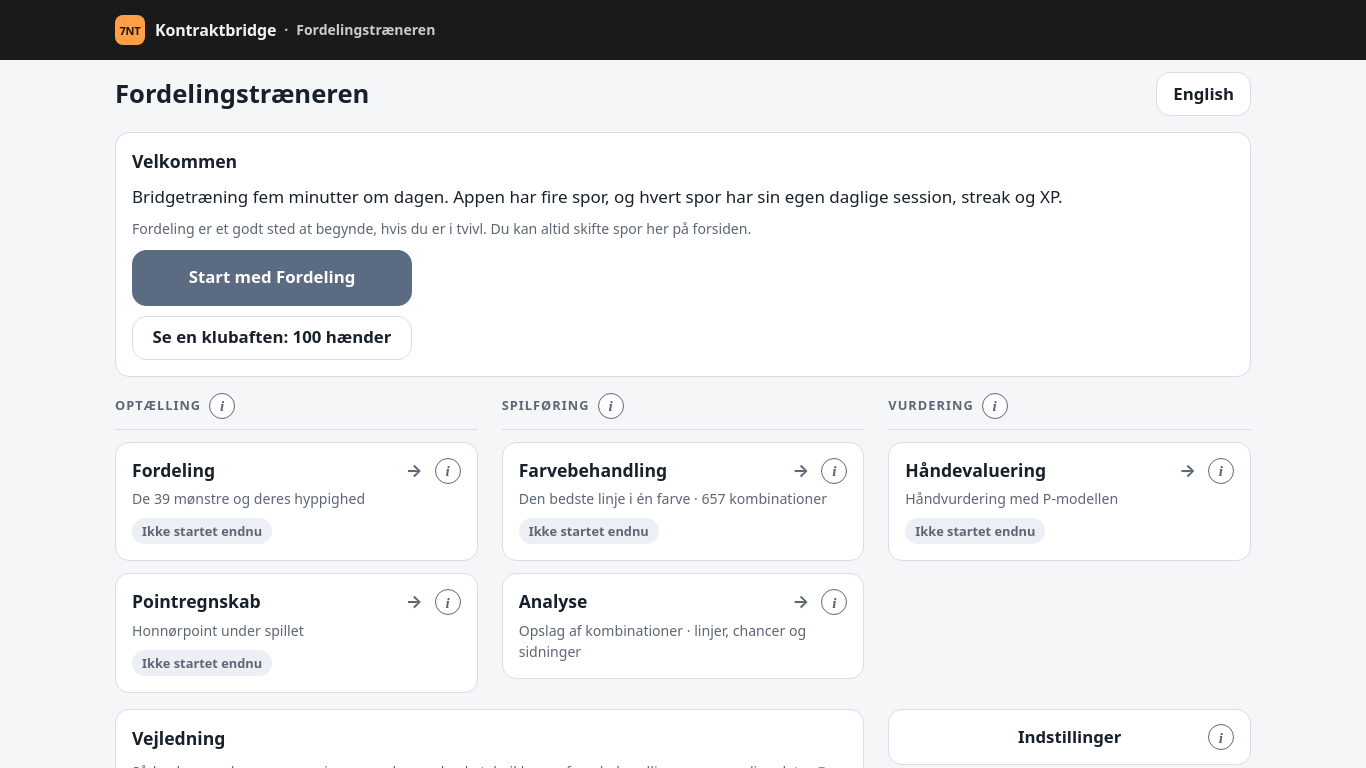
Test: Analyse som selvstændigt modul (SPEC-analyse-modul.md, trin 1) › åbnet fra forsiden: adressen bliver #analyse, og Tilbage går et skridt tilbage i browseren
Click the button "Analyse": x=683, y=626 [502,573,864,679]
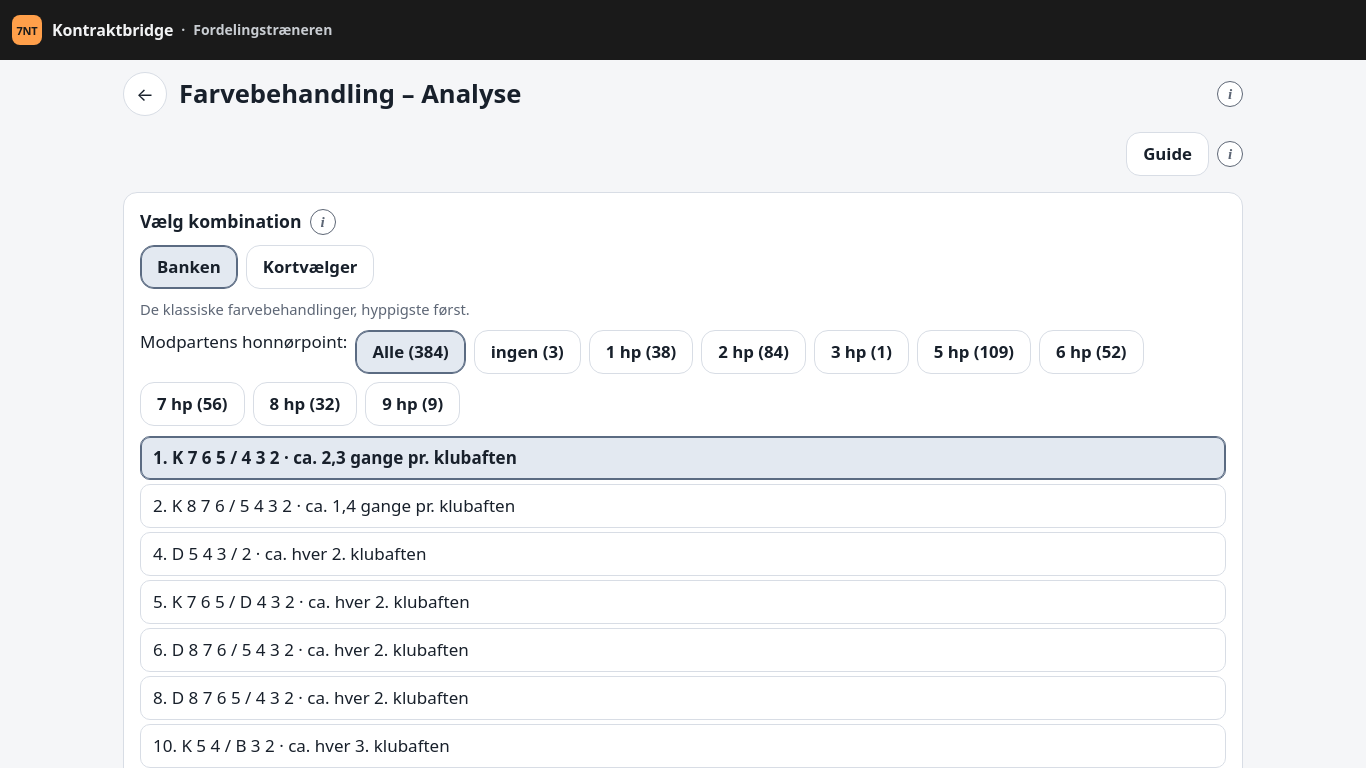
Check: the heading "Farvebehandling – Analyse" is shown, box [179,76,521,111]
Click the button named "Tilbage til forsiden": x=145, y=94 [123,72,167,116]
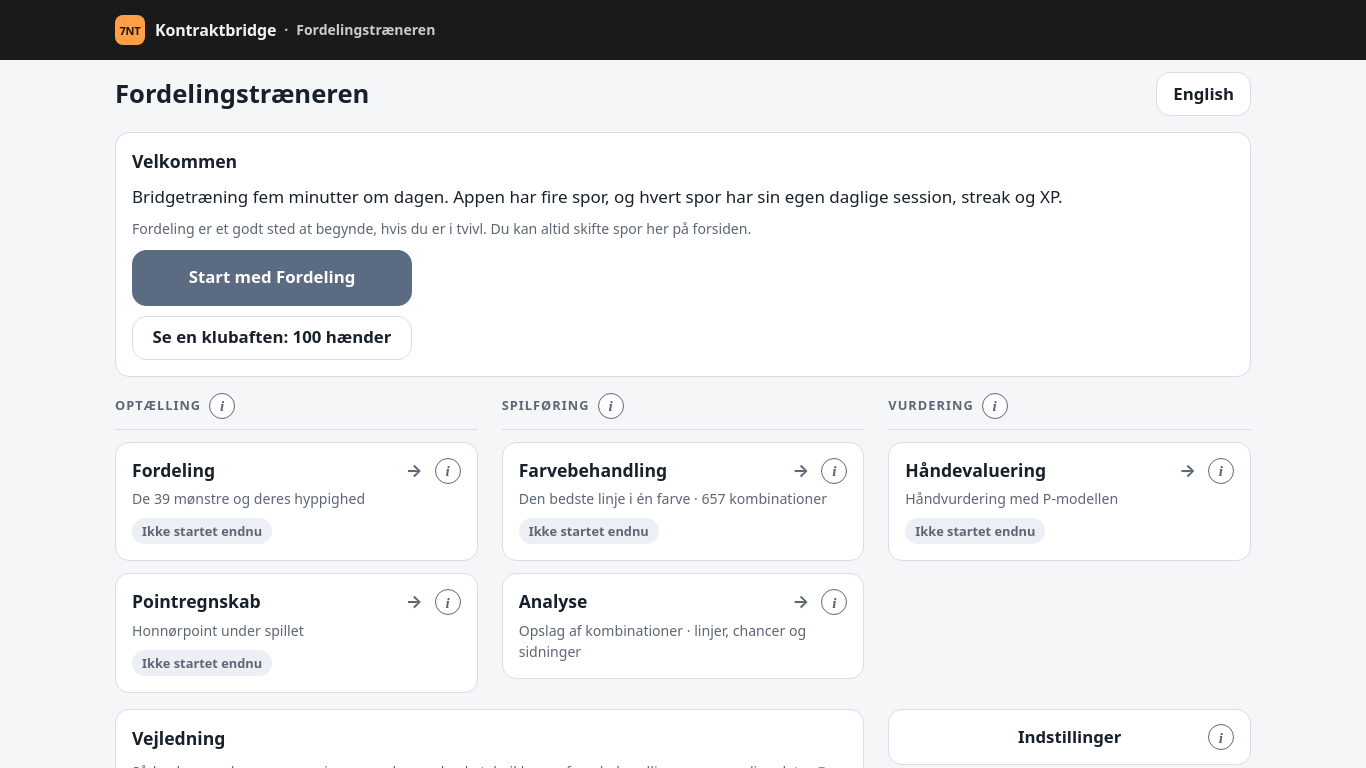
Check: the heading "Fordelingstræneren" is shown, box [115,76,369,111]
